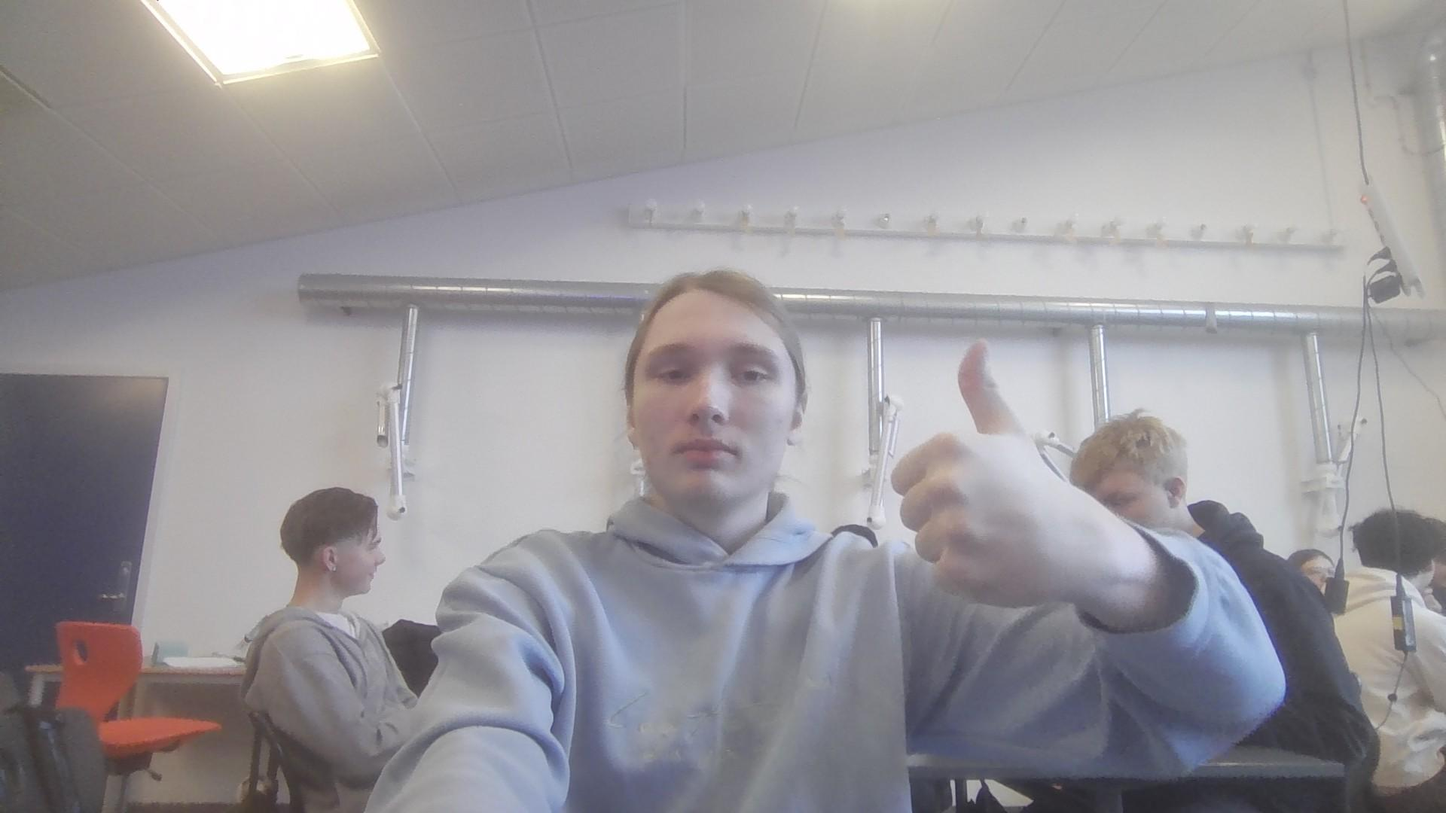thumbs up: (896, 332, 1069, 611)
